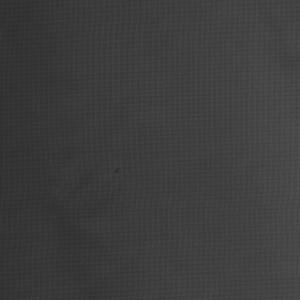Wrinkle: (41, 157, 129, 300), (250, 1, 300, 84)
